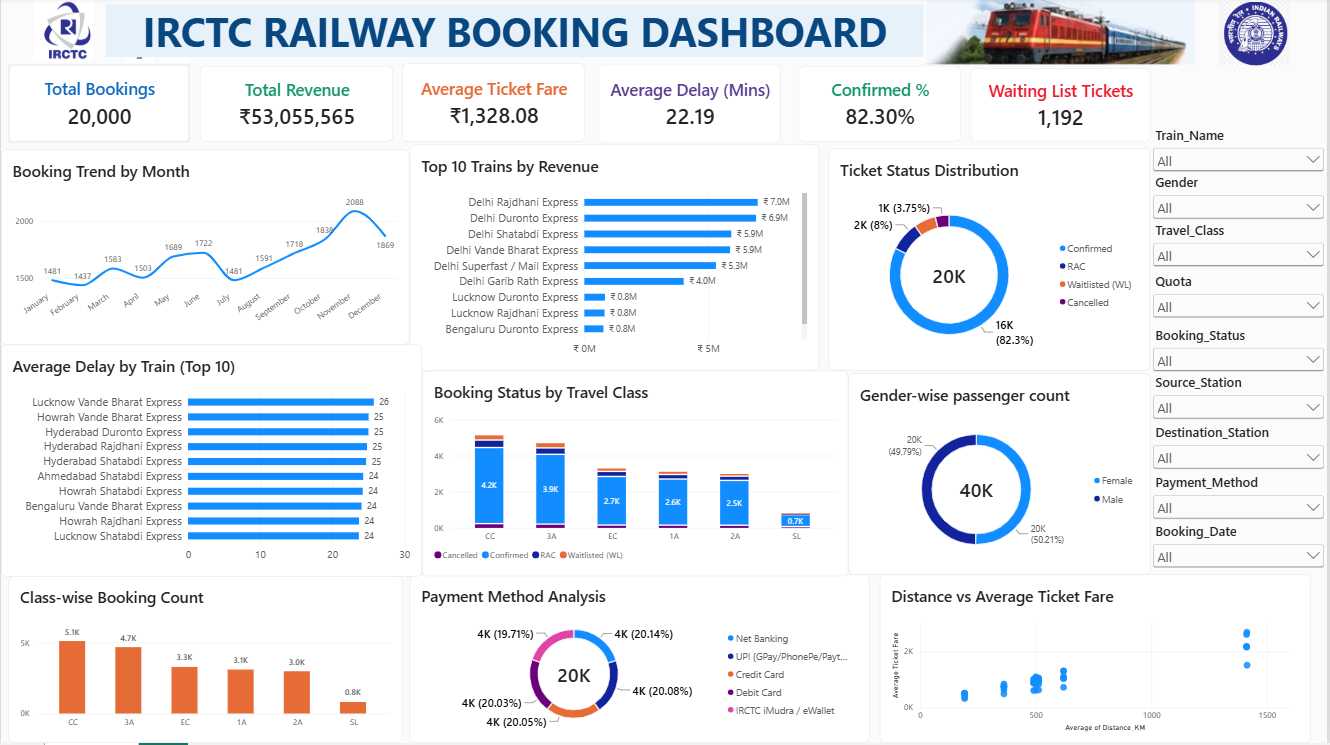

The page's visual inventory and layout, read from the dashboard file:
{"tool":"powerbi","page":{"name":"Page 1","canvas":[1920,1080],"ordinal":0},"visuals":[{"type":"cardVisual","fields":{"Data":["irctc_business_insights_synthet.Total Revenue Display"]},"box":[287.7,99.5,280.5,110.4],"z":0},{"type":"cardVisual","fields":{"Data":["irctc_business_insights_synthet.Total Bookings Display"]},"box":[10.9,97.7,262.4,112.2],"z":1000},{"type":"cardVisual","fields":{"Data":["irctc_business_insights_synthet.Average Ticket Fare Display"]},"box":[580.9,95.9,264.1,114.5],"z":2000},{"type":"cardVisual","fields":{"Data":["irctc_business_insights_synthet.Average Delay (Mins)"]},"box":[865,97.7,264.1,114.5],"z":3000},{"type":"cardVisual","fields":{"Data":["irctc_business_insights_synthet.Confirmed %"]},"box":[1154.6,99.5,235.3,110.4],"z":4000},{"type":"slicer","fields":{"Values":["irctc_business_insights_synthet.Train_Name"]},"box":[1663.1,186.4,256.7,68.3],"z":5000},{"type":"slicer","fields":{"Values":["irctc_business_insights_synthet.Gender"]},"box":[1663.1,255.2,256.7,68.3],"z":6000},{"type":"slicer","fields":{"Values":["irctc_business_insights_synthet.Travel_Class"]},"box":[1663.1,323.9,256.7,73.9],"z":7000},{"type":"slicer","fields":{"Values":["irctc_business_insights_synthet.Quota"]},"box":[1663.1,398.1,256.7,72],"z":8000},{"type":"slicer","fields":{"Values":["irctc_business_insights_synthet.Booking_Status"]},"box":[1663.1,475.9,256.7,66.5],"z":9000},{"type":"slicer","fields":{"Values":["irctc_business_insights_synthet.Source_Station"]},"box":[1663.1,544.7,256.7,70.2],"z":10000},{"type":"slicer","fields":{"Values":["irctc_business_insights_synthet.Destination_Station"]},"box":[1663.1,617.1,256.7,72],"z":11000},{"type":"slicer","fields":{"Values":["irctc_business_insights_synthet.Payment_Method"]},"box":[1663.1,689.5,256.7,70.2],"z":12000},{"type":"slicer","fields":{"Values":["irctc_business_insights_synthet.Booking_Date"]},"box":[1663.1,760.1,256.7,70.2],"z":13000},{"type":"lineChart","title":"Booking Trend by Month","fields":{"Category":["irctc_business_insights_synthet.Booking_Date.Variation.Date Hierarchy.Month"],"Y":["irctc_business_insights_synthet.Total Bookings"]},"box":[0,220.6,590.9,282.4],"z":14000},{"type":"clusteredBarChart","title":"Top 10 Trains by Revenue","fields":{"Category":["irctc_business_insights_synthet.Train_Name"],"Y":["irctc_business_insights_synthet.Total Revenue"]},"box":[590.9,213.2,592.8,327.2],"z":15000},{"type":"donutChart","title":"Ticket Status Distribution","fields":{"Category":["irctc_business_insights_synthet.Booking_Status"],"Y":["irctc_business_insights_synthet.Total Bookings"]},"box":[1198.6,218.8,465.6,321.6],"z":16000},{"type":"donutChart","title":"Gender-wise passenger count","fields":{"Category":["irctc_business_insights_synthet.Gender"],"Y":["Sum(irctc_business_insights_synthet.Passenger_Count)"]},"box":[1226.6,544.1,437.6,291.7],"z":17000},{"type":"clusteredColumnChart","title":"Class-wise Booking Count","fields":{"Category":["irctc_business_insights_synthet.Travel_Class"],"Y":["irctc_business_insights_synthet.Total Bookings"]},"box":[11.2,837.7,570.3,241.2],"z":18000},{"type":"donutChart","title":"Payment Method Analysis","fields":{"Category":["irctc_business_insights_synthet.Payment_Method"],"Y":["irctc_business_insights_synthet.Total Bookings"]},"box":[590.9,835.8,665.7,243.1],"z":19000},{"type":"barChart","title":"Average Delay by Train (Top 10)","fields":{"Category":["irctc_business_insights_synthet.Train_Name"],"Y":["irctc_business_insights_synthet.Average Delay (Mins)"]},"box":[0,502.3,609.3,336.1],"z":20000},{"type":"cardVisual","fields":{"Data":["Stations.Waiting List Tickets"]},"box":[1402.5,103.2,262.4,106.8],"z":21000},{"type":"textbox","title":"IRCTC RAILWAY BOOKING DASHBOARD","box":[152,10.9,1183.5,76],"z":22000},{"type":"image","box":[9,1.8,162.9,92.3],"z":23000},{"type":"image","box":[1335.5,0,396.3,97.7],"z":24000},{"type":"image","box":[1731.8,7.2,164.7,92.3],"z":25000},{"type":"columnChart","title":"Booking Status by Travel Class","fields":{"Category":["irctc_business_insights_synthet.Travel_Class"],"Series":["irctc_business_insights_synthet.Booking_Status"],"Y":["CountNonNull(irctc_business_insights_synthet.Booking_ID)"]},"box":[609.6,540.4,617.1,297.3],"z":26000},{"type":"scatterChart","title":"Distance vs Average Ticket Fare","fields":{"Category":["irctc_business_insights_synthet.Train_Name"],"X":["Avg(irctc_business_insights_synthet.Distance_KM)"],"Y":["irctc_business_insights_synthet.Average Ticket Fare"]},"box":[1272.2,836.1,624.3,244],"z":27000}]}

Visuals, with their boxes in screenshot pixels (x1, y1, x2, y2), scaled from the page's 1920x1080 canvas onto the 1330x745 screenshot:
cardVisual - irctc_business_insights_synthet.Total Revenue Display: BBox(199, 69, 394, 145)
cardVisual - irctc_business_insights_synthet.Total Bookings Display: BBox(8, 67, 189, 145)
cardVisual - irctc_business_insights_synthet.Average Ticket Fare Display: BBox(402, 66, 585, 145)
cardVisual - irctc_business_insights_synthet.Average Delay (Mins): BBox(599, 67, 782, 146)
cardVisual - irctc_business_insights_synthet.Confirmed %: BBox(800, 69, 963, 145)
slicer - irctc_business_insights_synthet.Train_Name: BBox(1152, 129, 1329, 176)
slicer - irctc_business_insights_synthet.Gender: BBox(1152, 176, 1329, 223)
slicer - irctc_business_insights_synthet.Travel_Class: BBox(1152, 223, 1329, 274)
slicer - irctc_business_insights_synthet.Quota: BBox(1152, 275, 1329, 324)
slicer - irctc_business_insights_synthet.Booking_Status: BBox(1152, 328, 1329, 374)
slicer - irctc_business_insights_synthet.Source_Station: BBox(1152, 376, 1329, 424)
slicer - irctc_business_insights_synthet.Destination_Station: BBox(1152, 426, 1329, 475)
slicer - irctc_business_insights_synthet.Payment_Method: BBox(1152, 476, 1329, 524)
slicer - irctc_business_insights_synthet.Booking_Date: BBox(1152, 524, 1329, 573)
"Booking Trend by Month" lineChart: BBox(0, 152, 409, 347)
"Top 10 Trains by Revenue" clusteredBarChart: BBox(409, 147, 820, 373)
"Ticket Status Distribution" donutChart: BBox(830, 151, 1153, 373)
"Gender-wise passenger count" donutChart: BBox(850, 375, 1153, 577)
"Class-wise Booking Count" clusteredColumnChart: BBox(8, 578, 403, 744)
"Payment Method Analysis" donutChart: BBox(409, 577, 870, 744)
"Average Delay by Train (Top 10)" barChart: BBox(0, 346, 422, 578)
cardVisual - Stations.Waiting List Tickets: BBox(972, 71, 1153, 145)
"IRCTC RAILWAY BOOKING DASHBOARD" textbox: BBox(105, 8, 925, 60)
image: BBox(6, 1, 119, 65)
image: BBox(925, 0, 1200, 67)
image: BBox(1200, 5, 1314, 69)
"Booking Status by Travel Class" columnChart: BBox(422, 373, 850, 578)
"Distance vs Average Ticket Fare" scatterChart: BBox(881, 577, 1314, 744)
